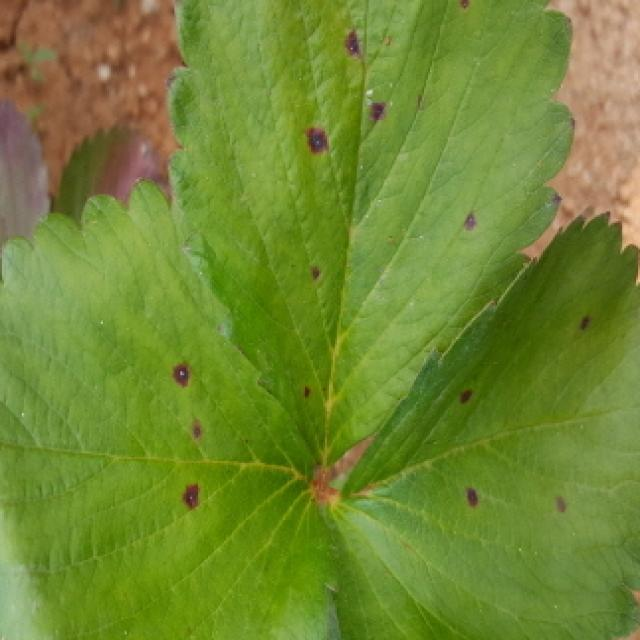Leaf Spot: (166, 0, 576, 471), (0, 178, 332, 640), (326, 210, 640, 640)
